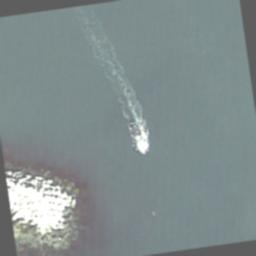boat: (130, 120, 150, 156)
